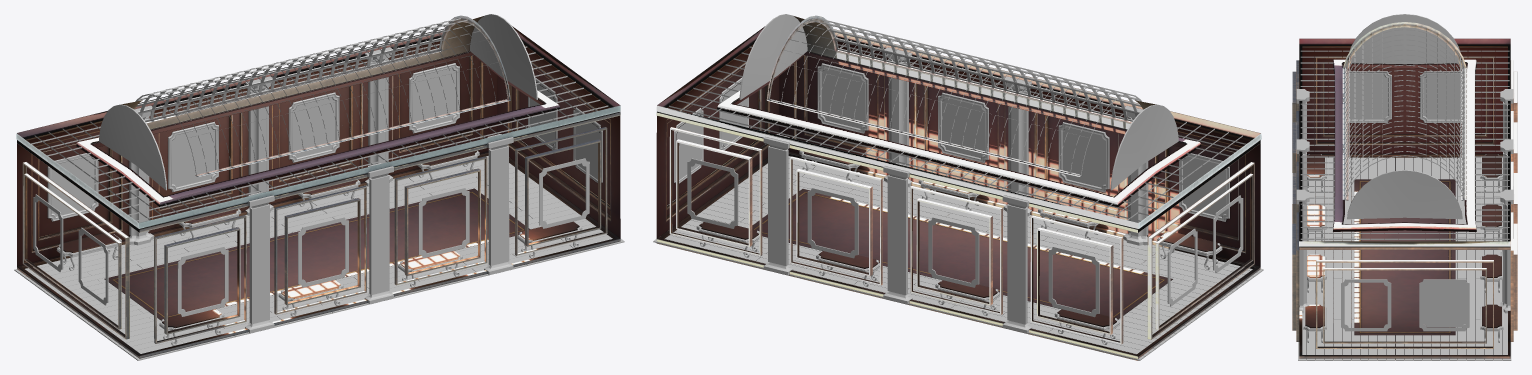
File: gallery.gltf
3 renders of one model, left to right at view 1: azimuth 30°, elevation 25°; view 2: azimuth 150°, elevation 25°; view 3: azimuth 270°, elevation 25°, orthographic. The views are drawn at different scales.
Visible parts, largest first — view 1: Cylinder.001_Cylinder.001; view 2: Cylinder.001_Cylinder.001; view 3: Cylinder.001_Cylinder.001.
Boxes of the visible parts, x1,y1,x2,y2 form: Cylinder.001_Cylinder.001: [14, 14, 624, 360]; Cylinder.001_Cylinder.001: [653, 14, 1263, 360]; Cylinder.001_Cylinder.001: [1292, 14, 1517, 360].
Bounding box in the file's own units: 12.27 × 4.7 × 5.6.
